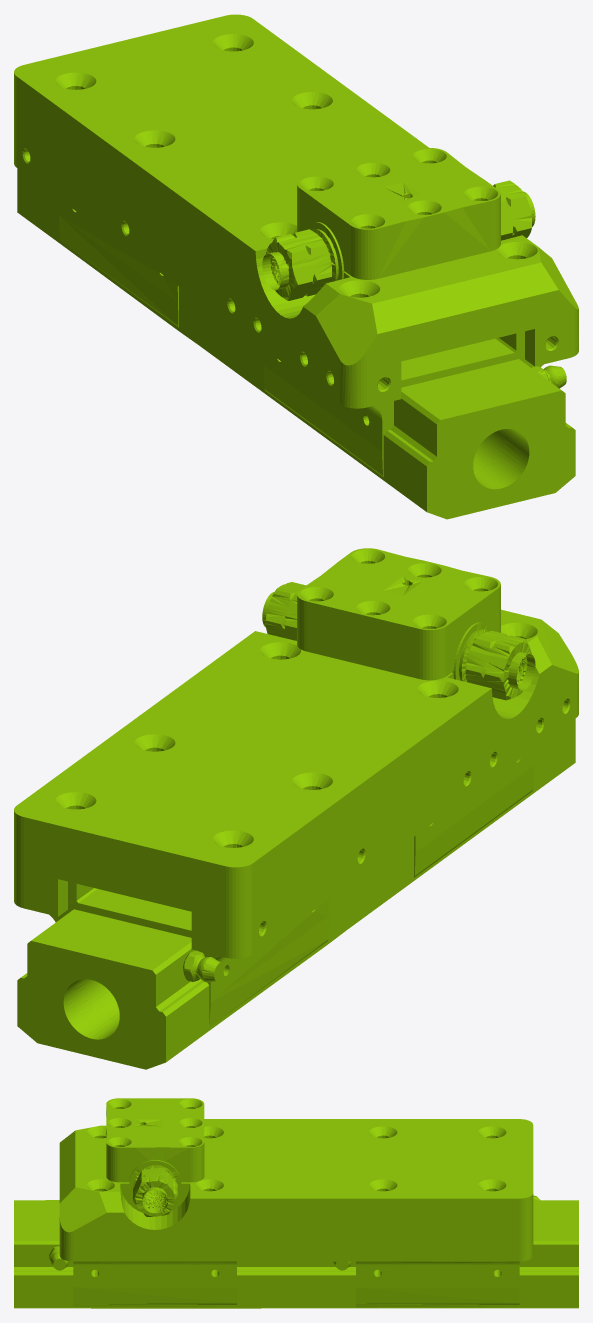
Rendered from Carriage2.OBJ.
3 renders of one model, top to bottom at view 1: azimuth 30°, elevation 25°; view 2: azimuth 150°, elevation 25°; view 3: azimuth 270°, elevation 25°, orthographic. The views are drawn at different scales.
Visible parts, largest first — view 1: /ambf/env/Carriage2_Carriage2; view 2: /ambf/env/Carriage2_Carriage2; view 3: /ambf/env/Carriage2_Carriage2.
Boxes of the visible parts, x1,y1,x2,y2 form: /ambf/env/Carriage2_Carriage2: (14,14,578,519); /ambf/env/Carriage2_Carriage2: (14,548,578,1069); /ambf/env/Carriage2_Carriage2: (14,1098,578,1308).
Bounding box in the file's own units: 0.0743 × 0.0677 × 0.2072.
